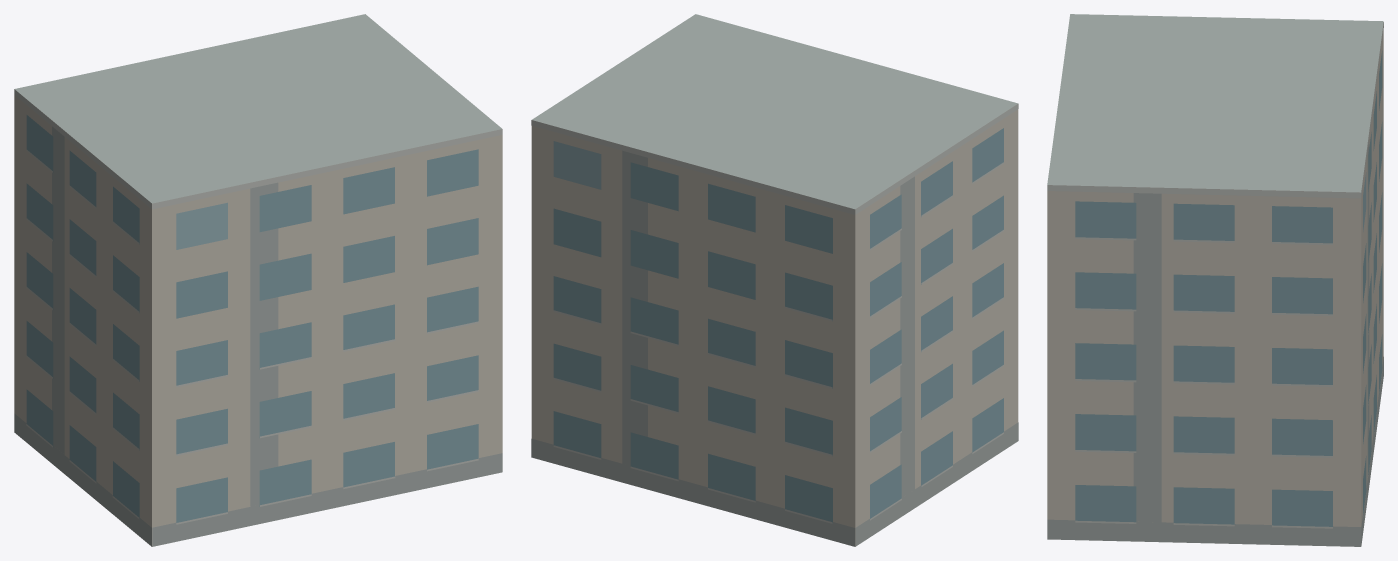
File: survey-upis-32956353.glb
3 views of the same model, side by side, from view 1: azimuth 30°, elevation 25°; view 2: azimuth 150°, elevation 25°; view 3: azimuth 270°, elevation 25° (orthographic). The views are drawn at different scales.
Visible parts, largest first — view 1: survey-upis-32956353.tmp; view 2: survey-upis-32956353.tmp; view 3: survey-upis-32956353.tmp.
Part boxes in pixels (x1,y1,x2,y2): survey-upis-32956353.tmp: (14,14,502,546); survey-upis-32956353.tmp: (531,14,1018,546); survey-upis-32956353.tmp: (1047,14,1383,546).
Bounding box in the file's own units: 15.67 × 14.5 × 12.49.
